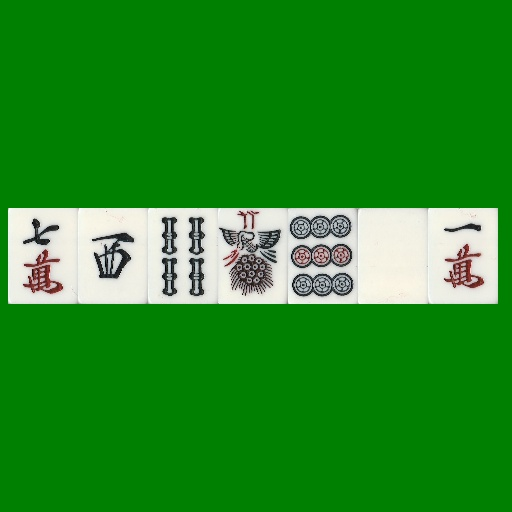1m: (428, 208, 498, 304)
1s: (218, 208, 288, 304)
4s: (148, 208, 218, 304)
7m: (8, 208, 78, 304)
9p: (288, 208, 358, 304)
west: (78, 208, 148, 304)
white: (358, 208, 428, 304)
